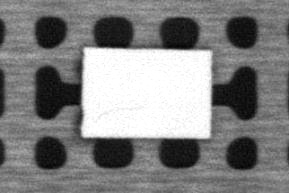DIE_CRACK: (95, 104, 144, 122)
